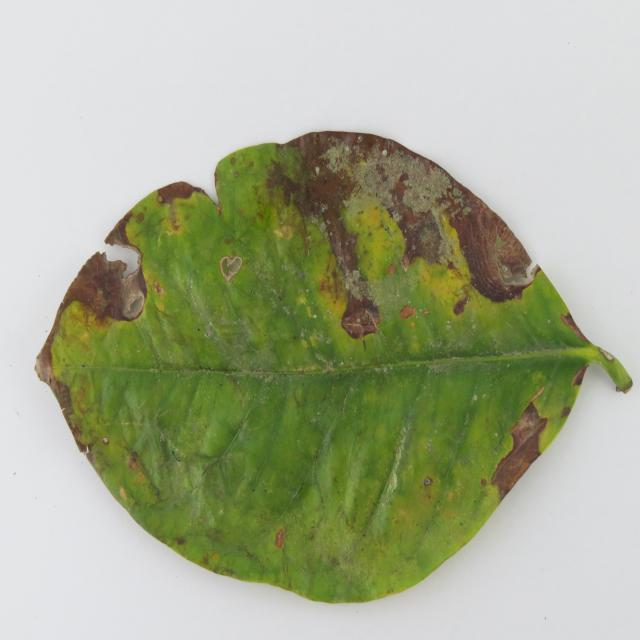DeficienciaNutricional-Potasio: (35, 132, 632, 602)
